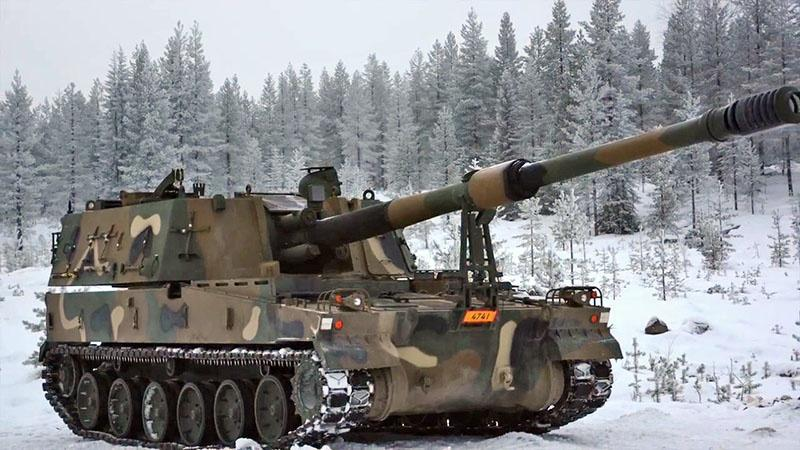sau: (40, 71, 800, 449)
